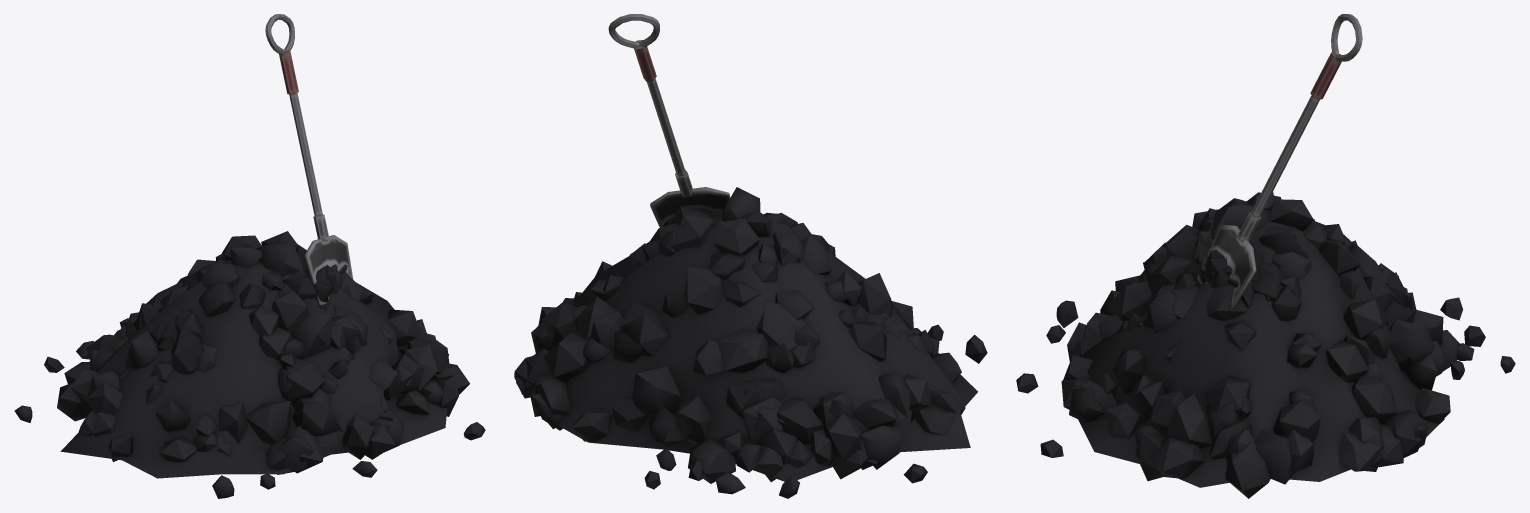
The model's file is CoalPile.fbx.
3 views of the same model, side by side, from view 1: azimuth 30°, elevation 25°; view 2: azimuth 150°, elevation 25°; view 3: azimuth 270°, elevation 25° (orthographic). The views are drawn at different scales.
Visible parts, largest first — view 1: CoalPile; view 2: CoalPile; view 3: CoalPile.
Boxes of the visible parts, x1=… form: CoalPile: x1=14, y1=14, x2=485, y2=498; CoalPile: x1=514, y1=14, x2=987, y2=498; CoalPile: x1=1016, y1=14, x2=1515, y2=498.
Size of the model in its own units: 311 by 281 by 302.
